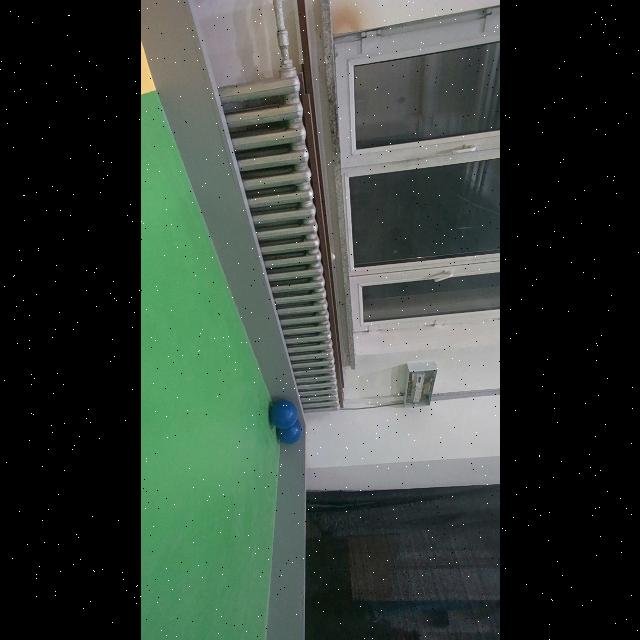B: (269, 399, 297, 428), (276, 417, 302, 447)
